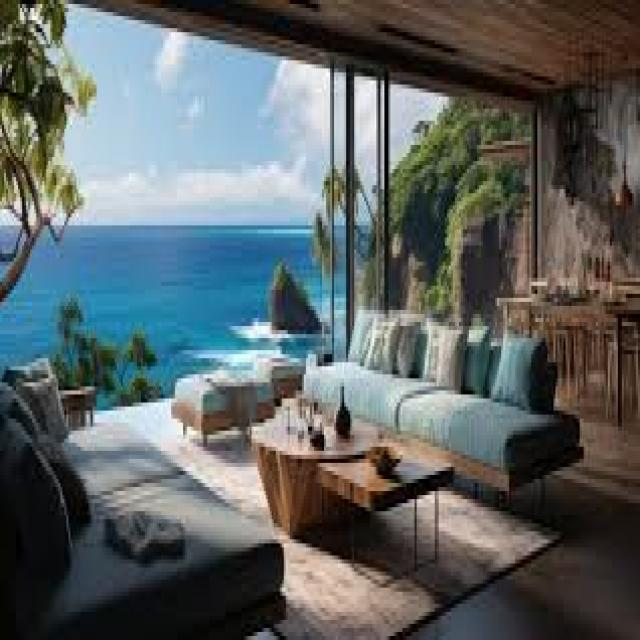Sofa: (4, 347, 283, 640), (305, 294, 587, 510)
Table: (250, 398, 452, 578)
window: (5, 2, 532, 296)
